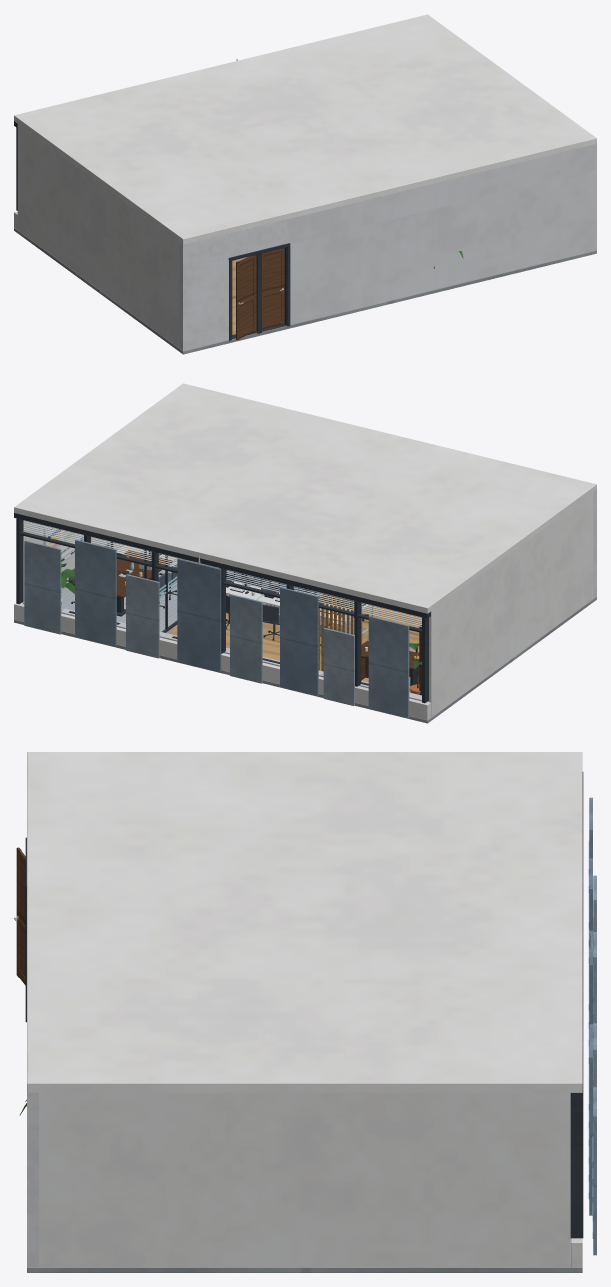
Rendered from desktop.glb.
3 renders of one model, top to bottom at view 1: azimuth 30°, elevation 25°; view 2: azimuth 150°, elevation 25°; view 3: azimuth 270°, elevation 25°, orthographic. The views are drawn at different scales.
Parts seen in each view (by area): view 1: BG_Ceiling, BG_Wall_South, BG_Wall_West, BG_Floor; view 2: BG_Ceiling, BG_Wall_North, BG_Wall_West, BG_Floor, BG_Furniture_Hero, BG_Wall_East, BG_Props_Clutter; view 3: BG_Ceiling, BG_Wall_East, BG_Wall_North, BG_Wall_South, BG_Floor.
Part boxes in pixels (<box>): BG_Ceiling: <box>14,14,596,244</box>; BG_Wall_South: <box>179,144,596,350</box>; BG_Wall_West: <box>17,124,179,348</box>; BG_Floor: <box>14,227,596,354</box>; BG_Ceiling: <box>14,383,596,613</box>; BG_Wall_North: <box>14,513,430,720</box>; BG_Wall_West: <box>427,493,593,717</box>; BG_Floor: <box>14,542,596,723</box>; BG_Furniture_Hero: <box>61,543,421,695</box>; BG_Wall_East: <box>22,520,123,602</box>; BG_Props_Clutter: <box>122,556,419,658</box>; BG_Ceiling: <box>27,752,582,1092</box>; BG_Wall_East: <box>39,1092,570,1267</box>; BG_Wall_North: <box>570,772,596,1267</box>; BG_Wall_South: <box>14,837,38,1267</box>; BG_Floor: <box>27,1238,582,1272</box>.
Size of the model in its own units: 12 by 3.2 by 8.92.
Materials: 4 (4 with a texture image).
